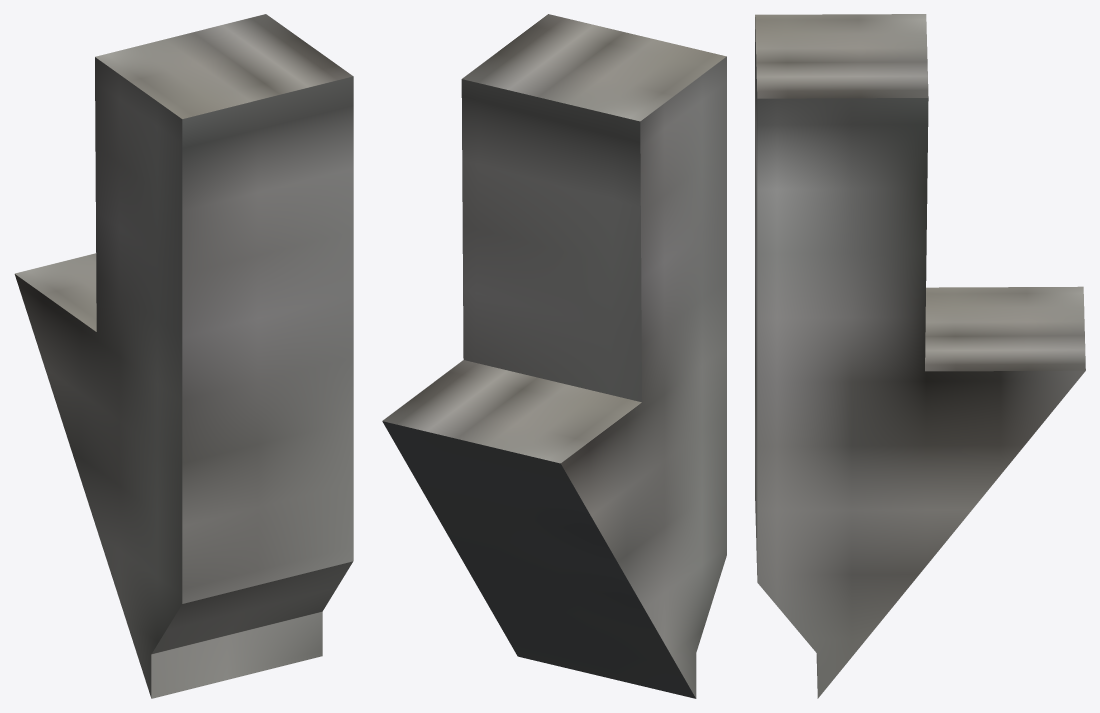
The model's file is euroB_12.glb.
3 views of the same model, side by side, from view 1: azimuth 30°, elevation 25°; view 2: azimuth 150°, elevation 25°; view 3: azimuth 270°, elevation 25° (orthographic). The views are drawn at different scales.
Parts seen in each view (by area): view 1: geometry_0; view 2: geometry_0; view 3: geometry_0.
Boxes of the visible parts, x1=… form: geometry_0: x1=14, y1=14, x2=353, y2=698; geometry_0: x1=382, y1=14, x2=726, y2=698; geometry_0: x1=755, y1=14, x2=1085, y2=698.
Size of the model in its own units: 0.463 by 1.52 by 0.7572.
Materials: 1 (1 with a texture image).
